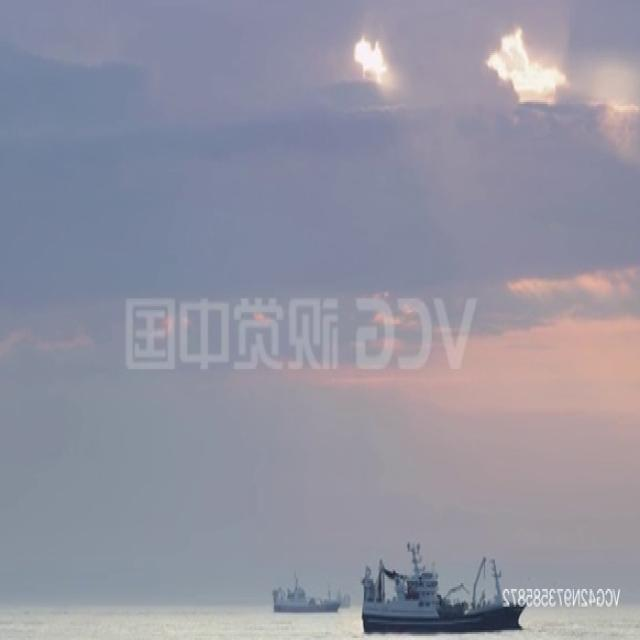cargoship: (354, 558, 536, 638), (263, 571, 341, 619)
